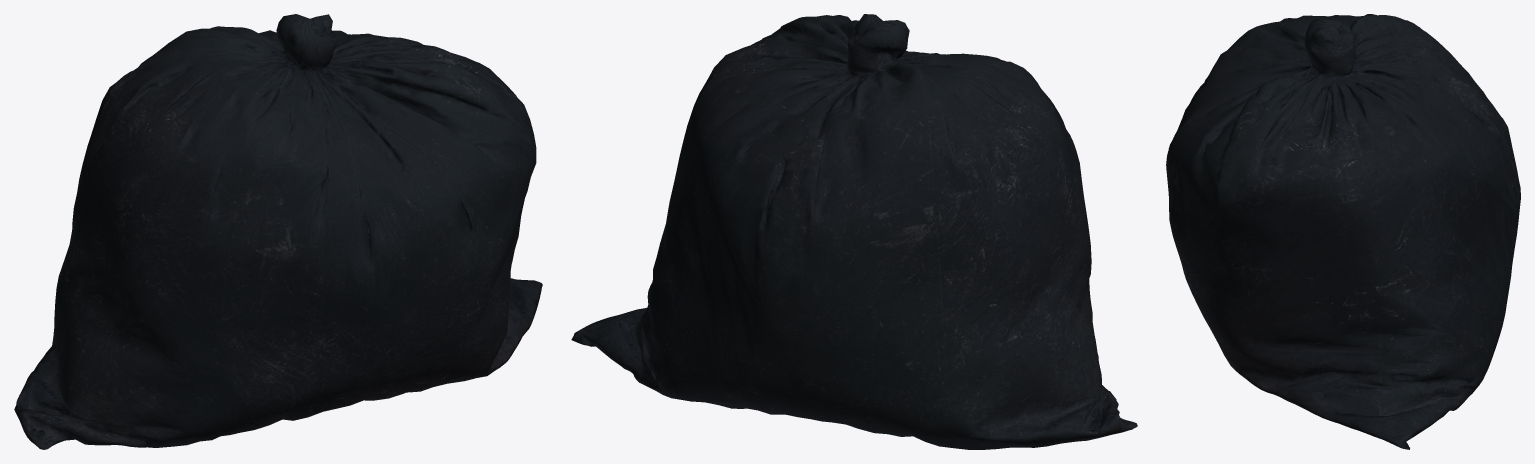
File: trash.obj
3 views of the same model, side by side, from view 1: azimuth 30°, elevation 25°; view 2: azimuth 150°, elevation 25°; view 3: azimuth 270°, elevation 25° (orthographic). The views are drawn at different scales.
Visible parts, largest first — view 1: Trashbag; view 2: Trashbag; view 3: Trashbag.
Boxes of the visible parts, x1=… form: Trashbag: x1=14, y1=14, x2=542, y2=449; Trashbag: x1=571, y1=14, x2=1137, y2=449; Trashbag: x1=1166, y1=14, x2=1520, y2=449.
Bounding box in the file's own units: 0.6809 × 0.4429 × 0.4502.
Materials: 1 (1 with a texture image).
